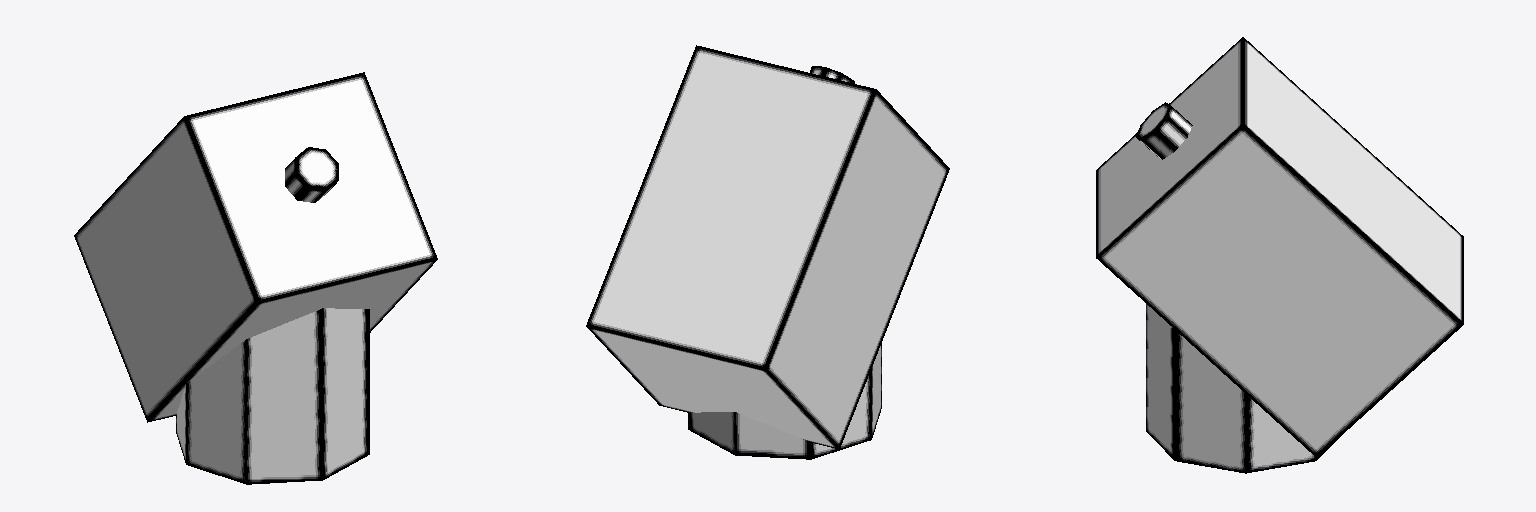
3 renders of one model, left to right at view 1: azimuth 30°, elevation 25°; view 2: azimuth 150°, elevation 25°; view 3: azimuth 270°, elevation 25°, orthographic.
Parts seen in each view (by area): view 1: Box10; view 2: Box10; view 3: Box10.
Boxes of the visible parts, box(x1,y1,x2,y2) form: Box10: box(74, 72, 437, 484); Box10: box(586, 45, 949, 459); Box10: box(1096, 37, 1463, 473).
Bounding box in the file's own units: 1.04 × 1.93 × 1.84.
Materials: 1 (1 with a texture image).